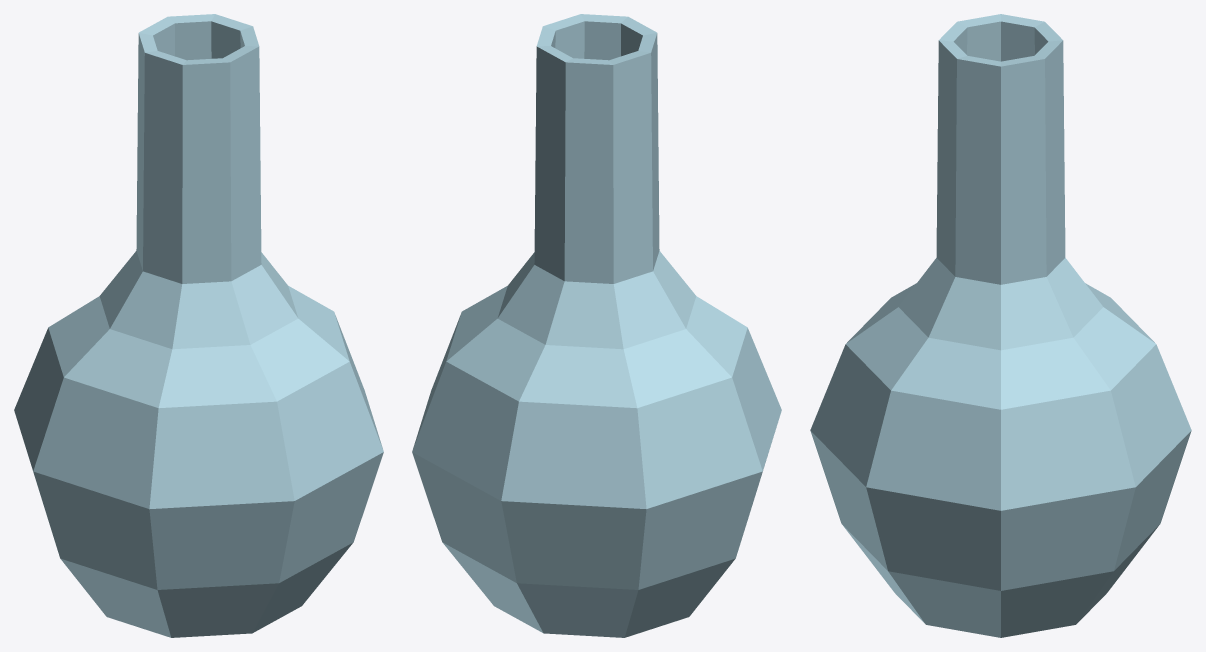
File: SM_Flask_B.gltf
3 views of the same model, side by side, from view 1: azimuth 30°, elevation 25°; view 2: azimuth 150°, elevation 25°; view 3: azimuth 270°, elevation 25° (orthographic).
Visible parts, largest first — view 1: SM_Flask_B; view 2: SM_Flask_B; view 3: SM_Flask_B.
Boxes of the visible parts, x1=… form: SM_Flask_B: x1=14, y1=14, x2=383, y2=637; SM_Flask_B: x1=412, y1=14, x2=781, y2=637; SM_Flask_B: x1=810, y1=14, x2=1191, y2=637.
Bounding box in the file's own units: 0.1158 × 0.1852 × 0.1158.
2 materials, 1 textured.
